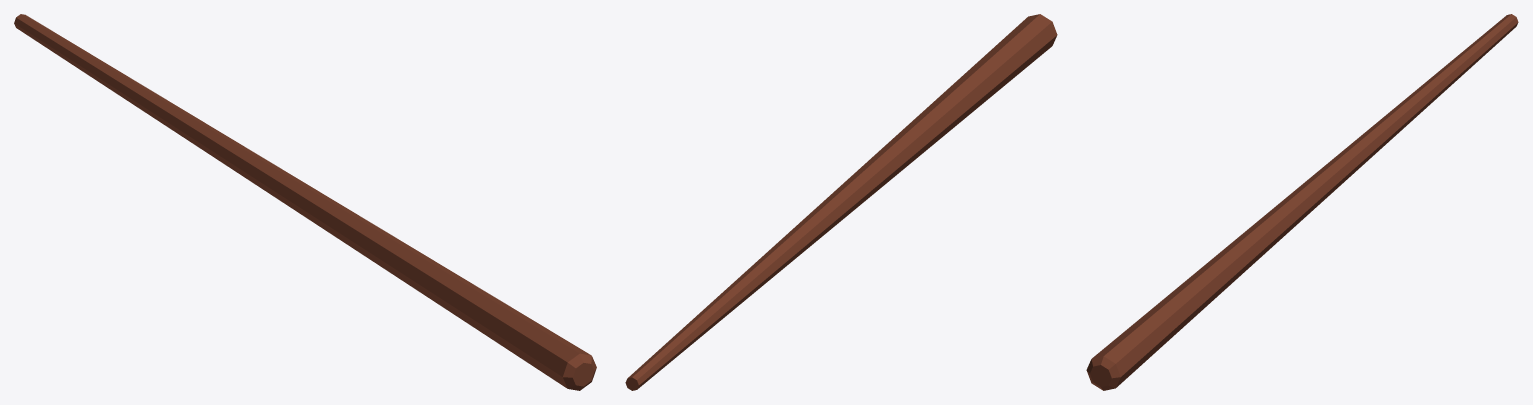
The model's file is chopstic_1.fbx.
The picture shows the model from 3 angles, left to right: view 1: azimuth 30°, elevation 25°; view 2: azimuth 150°, elevation 25°; view 3: azimuth 330°, elevation 25°; orthographic projection. The views are drawn at different scales.
Parts seen in each view (by area): view 1: diiner_objects_1:dner_objects:pCylinder4; view 2: diiner_objects_1:dner_objects:pCylinder4; view 3: diiner_objects_1:dner_objects:pCylinder4.
Part boxes in pixels (x1=…): diiner_objects_1:dner_objects:pCylinder4: x1=14, y1=14, x2=596, y2=390; diiner_objects_1:dner_objects:pCylinder4: x1=625, y1=14, x2=1057, y2=390; diiner_objects_1:dner_objects:pCylinder4: x1=1086, y1=14, x2=1518, y2=390.
Bounding box in the file's own units: 0.9595 × 0.4057 × 9.9.
